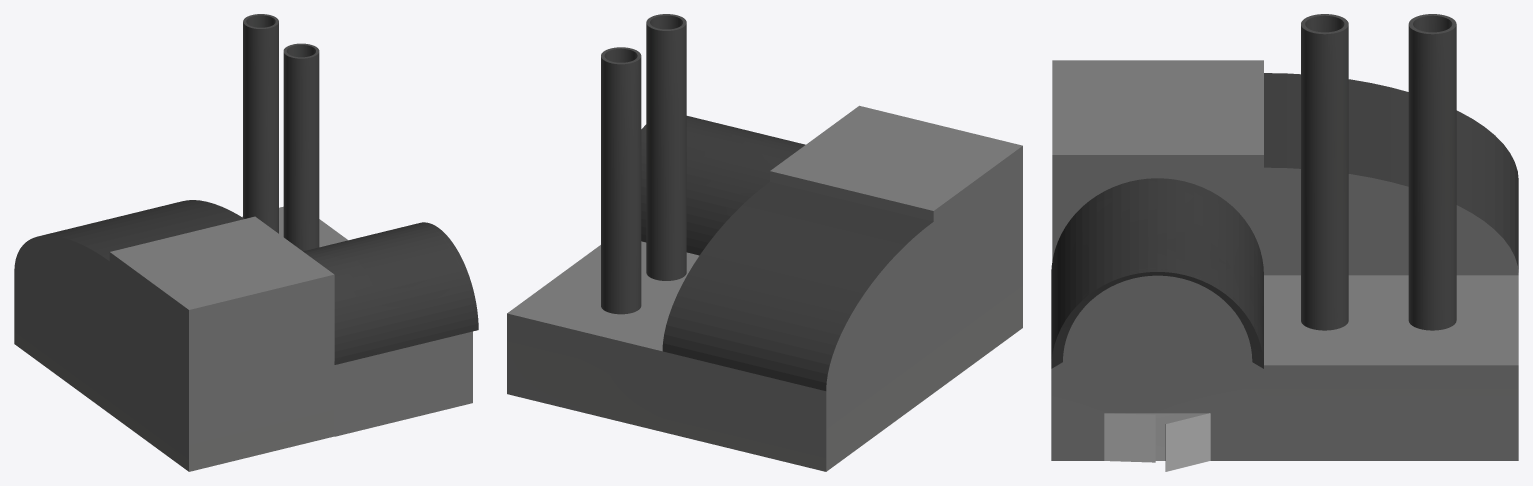
Rendered from factory.fbx.
The picture shows the model from 3 angles, left to right: view 1: azimuth 30°, elevation 25°; view 2: azimuth 150°, elevation 25°; view 3: azimuth 270°, elevation 25°; orthographic projection. The views are drawn at different scales.
Parts seen in each view (by area): view 1: Building_Factory_Industrial; view 2: Building_Factory_Industrial; view 3: Building_Factory_Industrial.
Part boxes in pixels (box(x1,y1,x2,y2)): Building_Factory_Industrial: box(14, 14, 478, 471); Building_Factory_Industrial: box(507, 14, 1022, 471); Building_Factory_Industrial: box(1051, 14, 1518, 471).
Size of the model in its own units: 56.77 by 53.03 by 57.33.
1 material, 1 textured.
